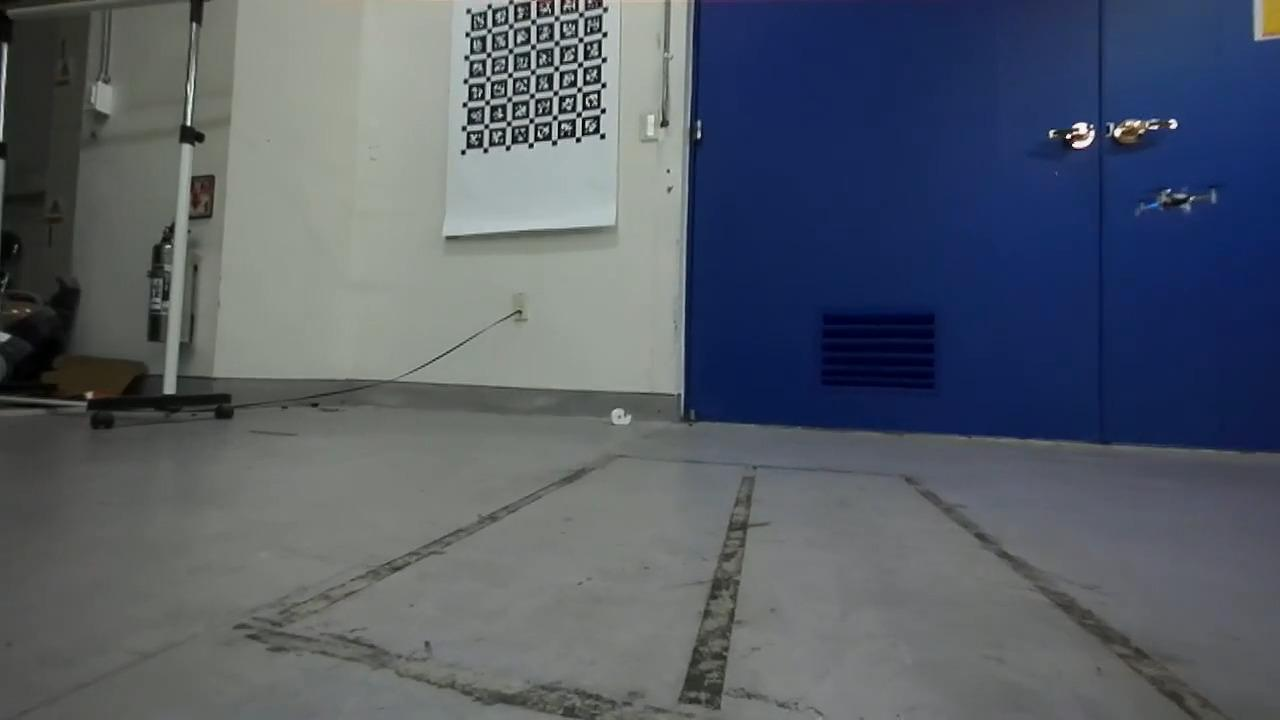crazyflie: (1131, 181, 1222, 219)
